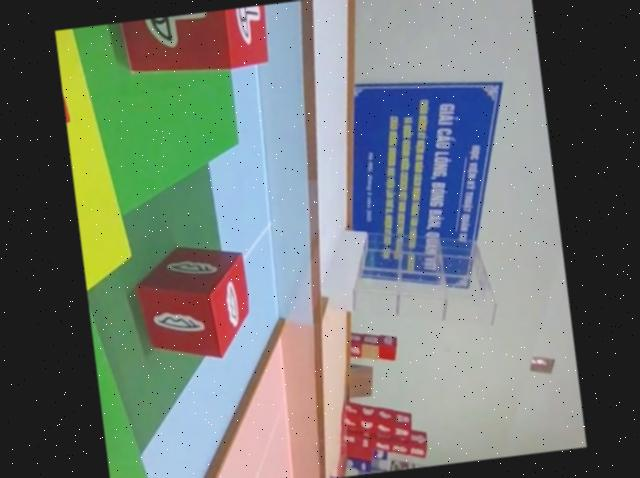R2 Real: (128, 241, 254, 368), (114, 5, 273, 80)
